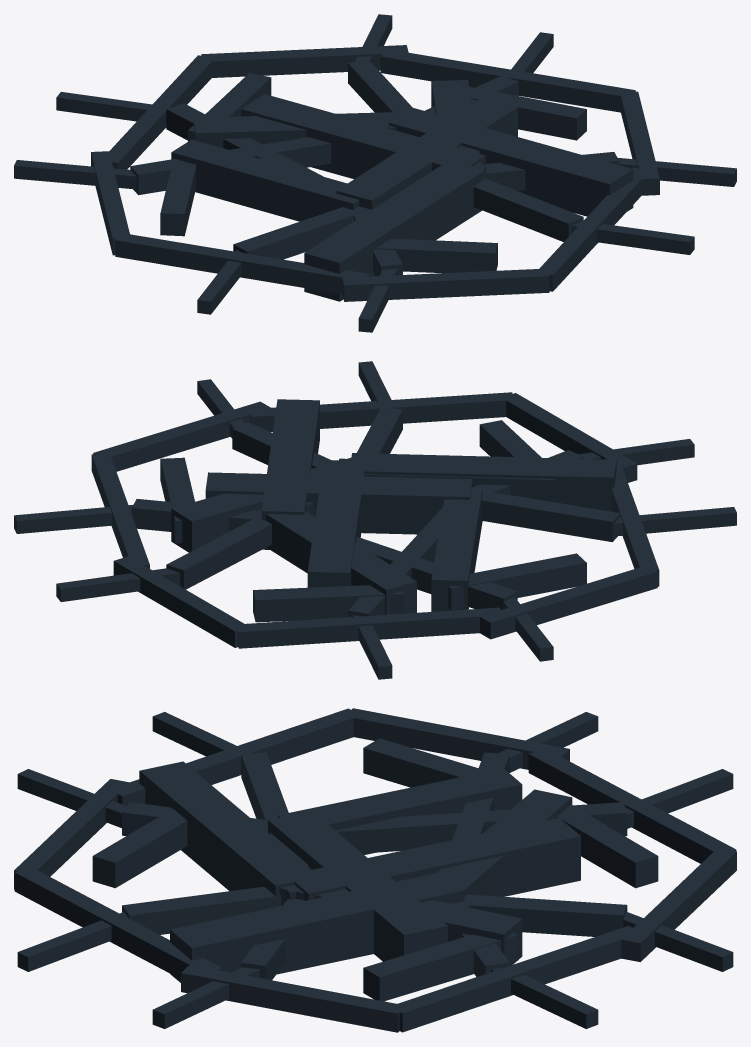
The model's file is CMU3DHiveXenoHiveWeedsCluster.glb.
3 views of the same model, one above another, from view 1: azimuth 30°, elevation 25°; view 2: azimuth 150°, elevation 25°; view 3: azimuth 270°, elevation 25° (orthographic). The views are drawn at different scales.
Visible parts, largest first — view 1: connected ground rhizome (×11), interwoven root loop (×8), forked ground filament (×16); view 2: connected ground rhizome (×12), interwoven root loop (×8), forked ground filament (×15); view 3: connected ground rhizome (×11), interwoven root loop (×8), forked ground filament (×16).
Part boxes in pixels (x1,y1,x2,y2): connected ground rhizome (×11): [160, 73, 633, 301]; interwoven root loop (×8): [91, 45, 659, 301]; forked ground filament (×16): [14, 14, 736, 332]; connected ground rhizome (×12): [160, 399, 616, 622]; interwoven root loop (×8): [91, 392, 659, 648]; forked ground filament (×15): [14, 361, 736, 679]; connected ground rhizome (×11): [92, 738, 658, 1001]; interwoven root loop (×8): [14, 708, 736, 1032]; forked ground filament (×16): [17, 712, 733, 1028].
Size of the model in its own units: 0.619 by 0.042 by 0.619.
